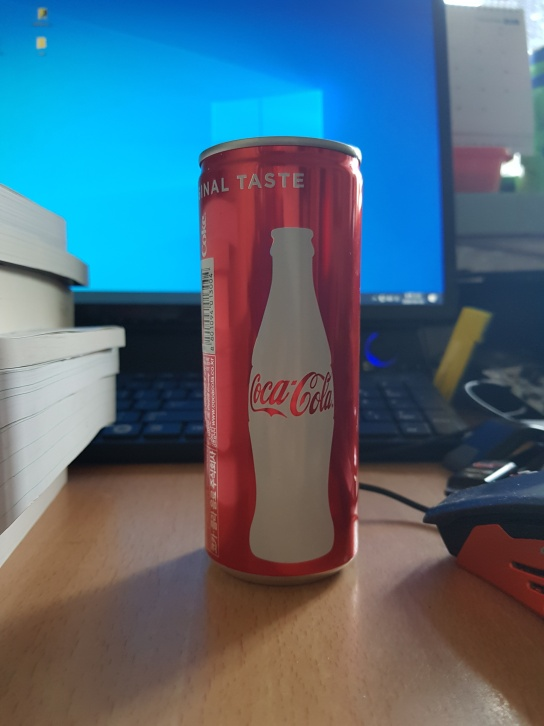Can: (194, 134, 369, 579)
